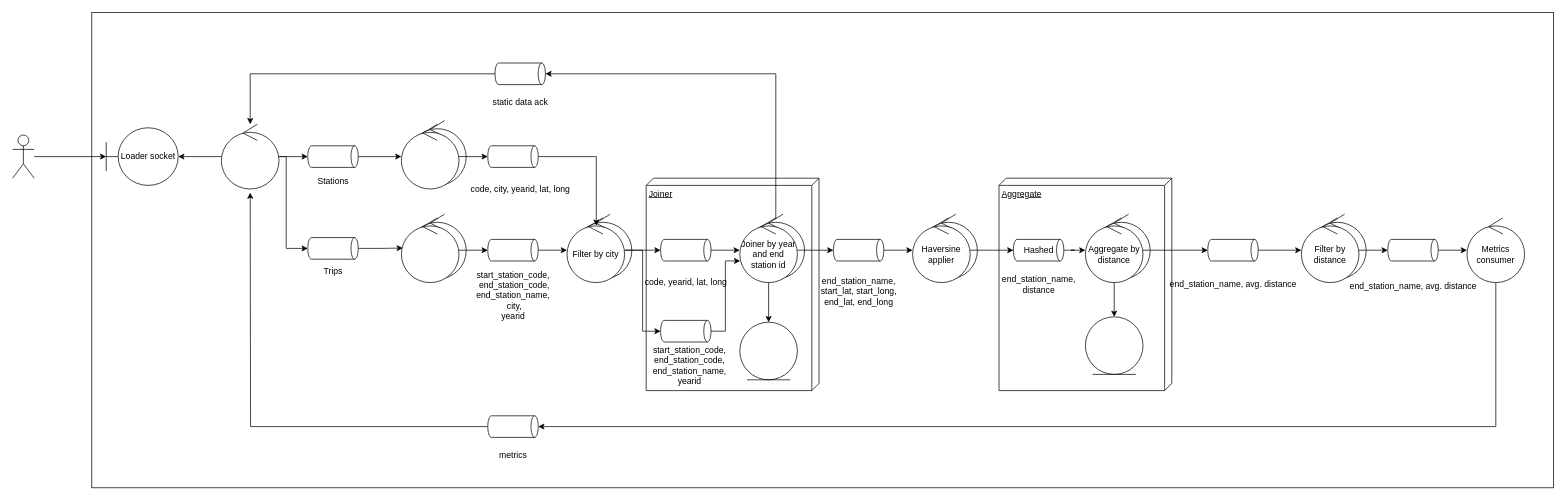
This 1566x500 diagram has some shape labels left out. The centre of each missing label's shape, as x and y in pixels:
Client: [23,156]
Code, year and station coordinates: [768,350]
End station name and average distance: [1114,345]
Loader: [250,156]
Stations consumer: [430,156]
Trips consumer: [430,250]
